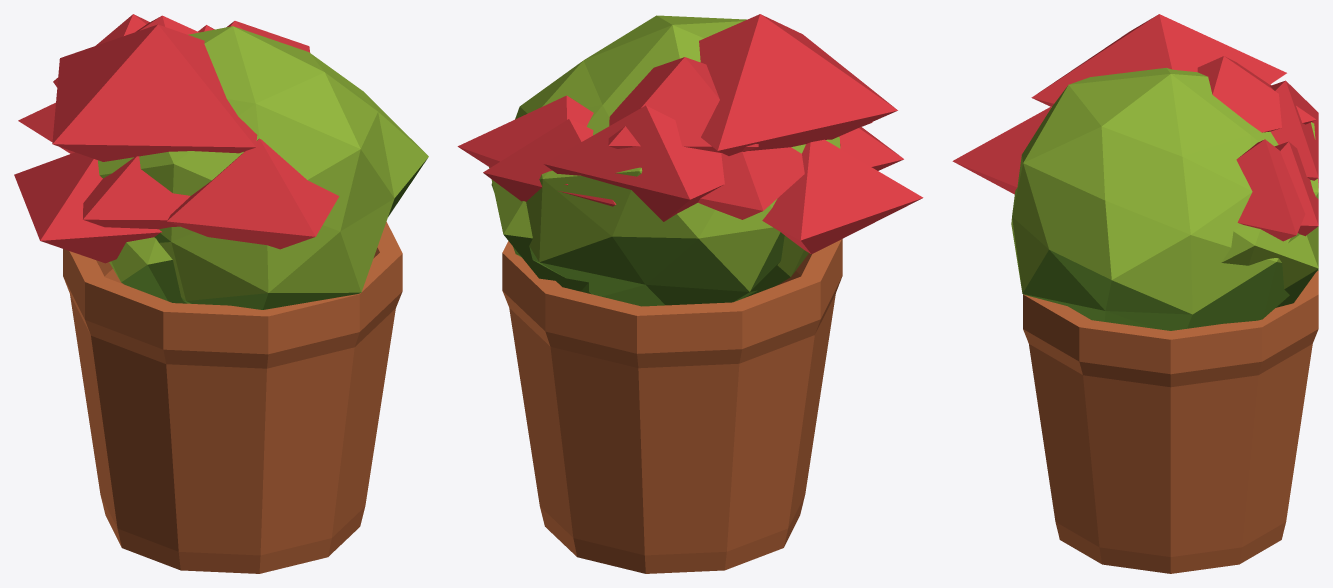
Rendered from SM_Street_Pot_Round_No3_FlowerRed_01.gltf.
3 renders of one model, left to right at view 1: azimuth 30°, elevation 25°; view 2: azimuth 150°, elevation 25°; view 3: azimuth 270°, elevation 25°, orthographic. The views are drawn at different scales.
Parts seen in each view (by area): view 1: SM_Street_Pot_Round_No3_FlowerRed_01; view 2: SM_Street_Pot_Round_No3_FlowerRed_01; view 3: SM_Street_Pot_Round_No3_FlowerRed_01.
Boxes of the visible parts, bbox=[...] form: SM_Street_Pot_Round_No3_FlowerRed_01: bbox=[14, 14, 428, 573]; SM_Street_Pot_Round_No3_FlowerRed_01: bbox=[457, 14, 923, 573]; SM_Street_Pot_Round_No3_FlowerRed_01: bbox=[952, 14, 1318, 573].
Bounding box in the file's own units: 0.1173 × 0.1515 × 0.106.
1 material, 1 textured.
